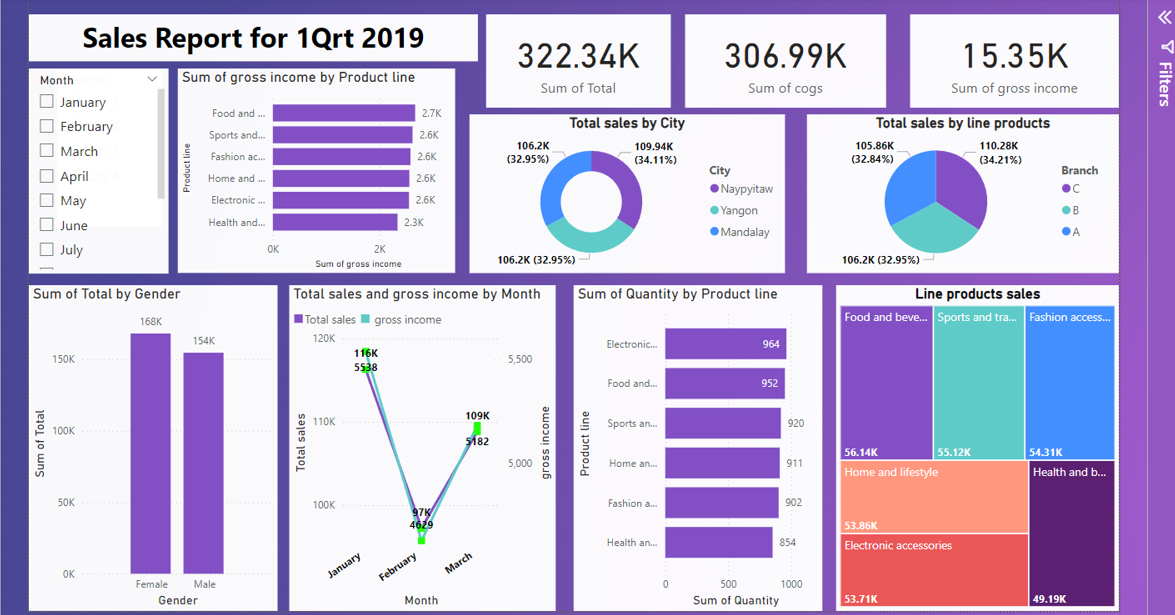

This screenshot's page, from the dashboard's own definition file:
{"tool":"powerbi","page":{"name":"Page 1","canvas":[1280,720],"ordinal":0},"visuals":[{"type":"card","fields":{"Values":["Sum(supermarket_sales.gross income)"]},"box":[1034.7,19.2,245.6,109.8],"z":0},{"type":"card","fields":{"Values":["Sum(supermarket_sales.Total)"]},"box":[536.5,19.2,216.8,109.8],"z":1},{"type":"card","fields":{"Values":["Sum(supermarket_sales.cogs)"]},"box":[769.8,19.2,236,109.8],"z":2},{"type":"pieChart","title":"Total sales by line products","fields":{"Category":["supermarket_sales.Branch"],"Y":["Sum(supermarket_sales.Total)"]},"box":[913.9,137.2,366.4,186.6],"z":3},{"type":"donutChart","title":"Total sales by City","fields":{"Y":["Sum(supermarket_sales.Total)"],"Category":["supermarket_sales.City"]},"box":[517.3,137.2,370.5,186.6],"z":4},{"type":"treemap","title":"Line products sales","fields":{"Values":["Sum(supermarket_sales.Total)"],"Group":["supermarket_sales.Product line"]},"box":[947.7,337.5,332.6,382.7],"z":5},{"type":"clusteredColumnChart","fields":{"Category":["supermarket_sales.Gender"],"Y":["Sum(supermarket_sales.Total)"]},"box":[0,337.5,292.3,382.7],"z":6},{"type":"slicer","fields":{"Values":["supermarket_sales.Date.Variation.Date Hierarchy.Quarter"]},"box":[32.9,83.7,123.5,185.2],"z":8},{"type":"slicer","fields":{"Values":["supermarket_sales.Date.Variation.Date Hierarchy.Month"]},"box":[0,83.2,163.9,240.9],"z":9},{"type":"lineChart","fields":{"Category":["supermarket_sales.Date.Variation.Date Hierarchy.Month"],"Y":["Sum(supermarket_sales.Total)"],"Y2":["Sum(supermarket_sales.gross income)"]},"box":[306,337.6,312.9,382.8],"z":10},{"type":"clusteredBarChart","fields":{"Category":["supermarket_sales.Product line"],"Y":["Sum(supermarket_sales.gross income)"]},"box":[174.3,83.7,325.2,240.1],"z":11},{"type":"clusteredBarChart","fields":{"Category":["supermarket_sales.Product line"],"Y":["Sum(supermarket_sales.Quantity)"]},"box":[639.5,337.6,292.3,382.8],"z":12},{"type":"textbox","box":[0,19.6,527,55],"z":13}]}

Visuals, with their boxes in screenshot pixels (x1, y1, x2, y2):
card - Sum(supermarket_sales.gross income): (x1=905, y1=13, x2=1112, y2=106)
card - Sum(supermarket_sales.Total): (x1=486, y1=13, x2=668, y2=106)
card - Sum(supermarket_sales.cogs): (x1=682, y1=13, x2=881, y2=106)
"Total sales by line products" pieChart: (x1=804, y1=113, x2=1112, y2=270)
"Total sales by City" donutChart: (x1=469, y1=113, x2=782, y2=270)
"Line products sales" treemap: (x1=832, y1=281, x2=1112, y2=604)
clusteredColumnChart - supermarket_sales.Gender x Sum(supermarket_sales.Total): (x1=34, y1=281, x2=280, y2=604)
slicer - supermarket_sales.Date.Variation.Date Hierarchy.Quarter: (x1=61, y1=67, x2=165, y2=223)
slicer - supermarket_sales.Date.Variation.Date Hierarchy.Month: (x1=34, y1=67, x2=172, y2=270)
lineChart - supermarket_sales.Date.Variation.Date Hierarchy.Month x Sum(supermarket_sales.Total): (x1=291, y1=281, x2=555, y2=604)
clusteredBarChart - supermarket_sales.Product line x Sum(supermarket_sales.gross income): (x1=180, y1=67, x2=454, y2=270)
clusteredBarChart - supermarket_sales.Product line x Sum(supermarket_sales.Quantity): (x1=572, y1=281, x2=819, y2=604)
textbox: (x1=34, y1=13, x2=478, y2=60)
